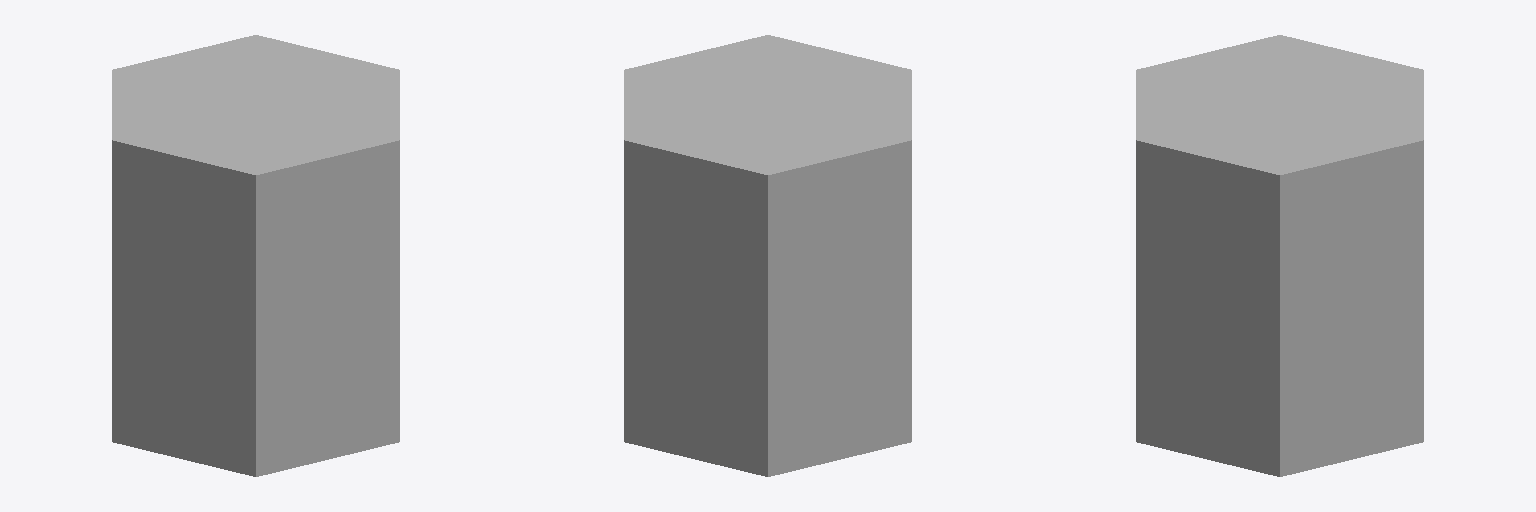
The model's file is hexprism.obj.
3 renders of one model, left to right at view 1: azimuth 30°, elevation 25°; view 2: azimuth 150°, elevation 25°; view 3: azimuth 270°, elevation 25°, orthographic.
Visible parts, largest first — view 1: prism; view 2: prism; view 3: prism.
Boxes of the visible parts, x1=… form: prism: x1=112, y1=35, x2=399, y2=476; prism: x1=624, y1=35, x2=911, y2=476; prism: x1=1136, y1=35, x2=1423, y2=476.
Size of the model in its own units: 1 by 1 by 0.866.